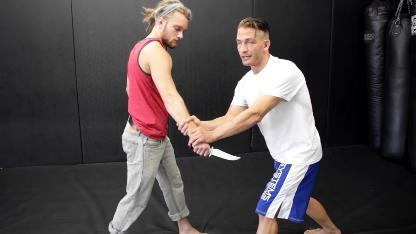knife: (188, 145, 242, 163)
